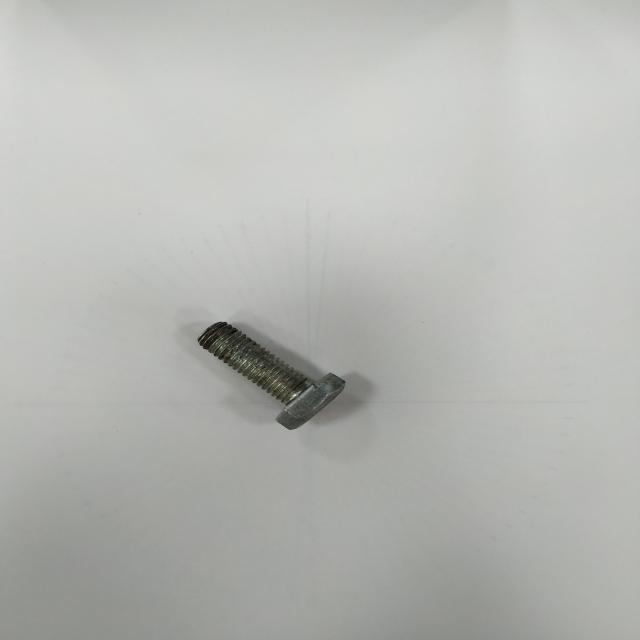Bolt: (197, 323, 347, 430)
